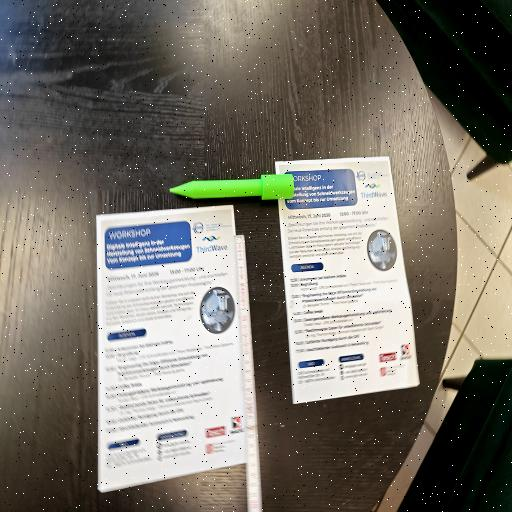Probe-Detection: (169, 174, 294, 200)
